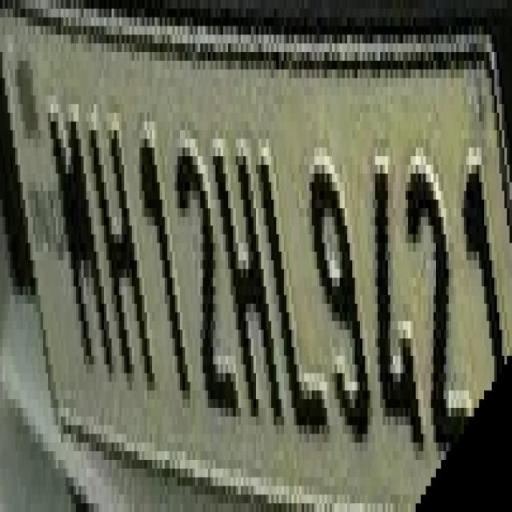number plate: (20, 8, 512, 495)
